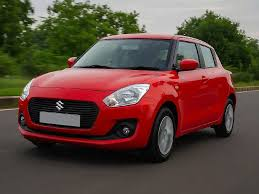Swift: (13, 32, 239, 159)
